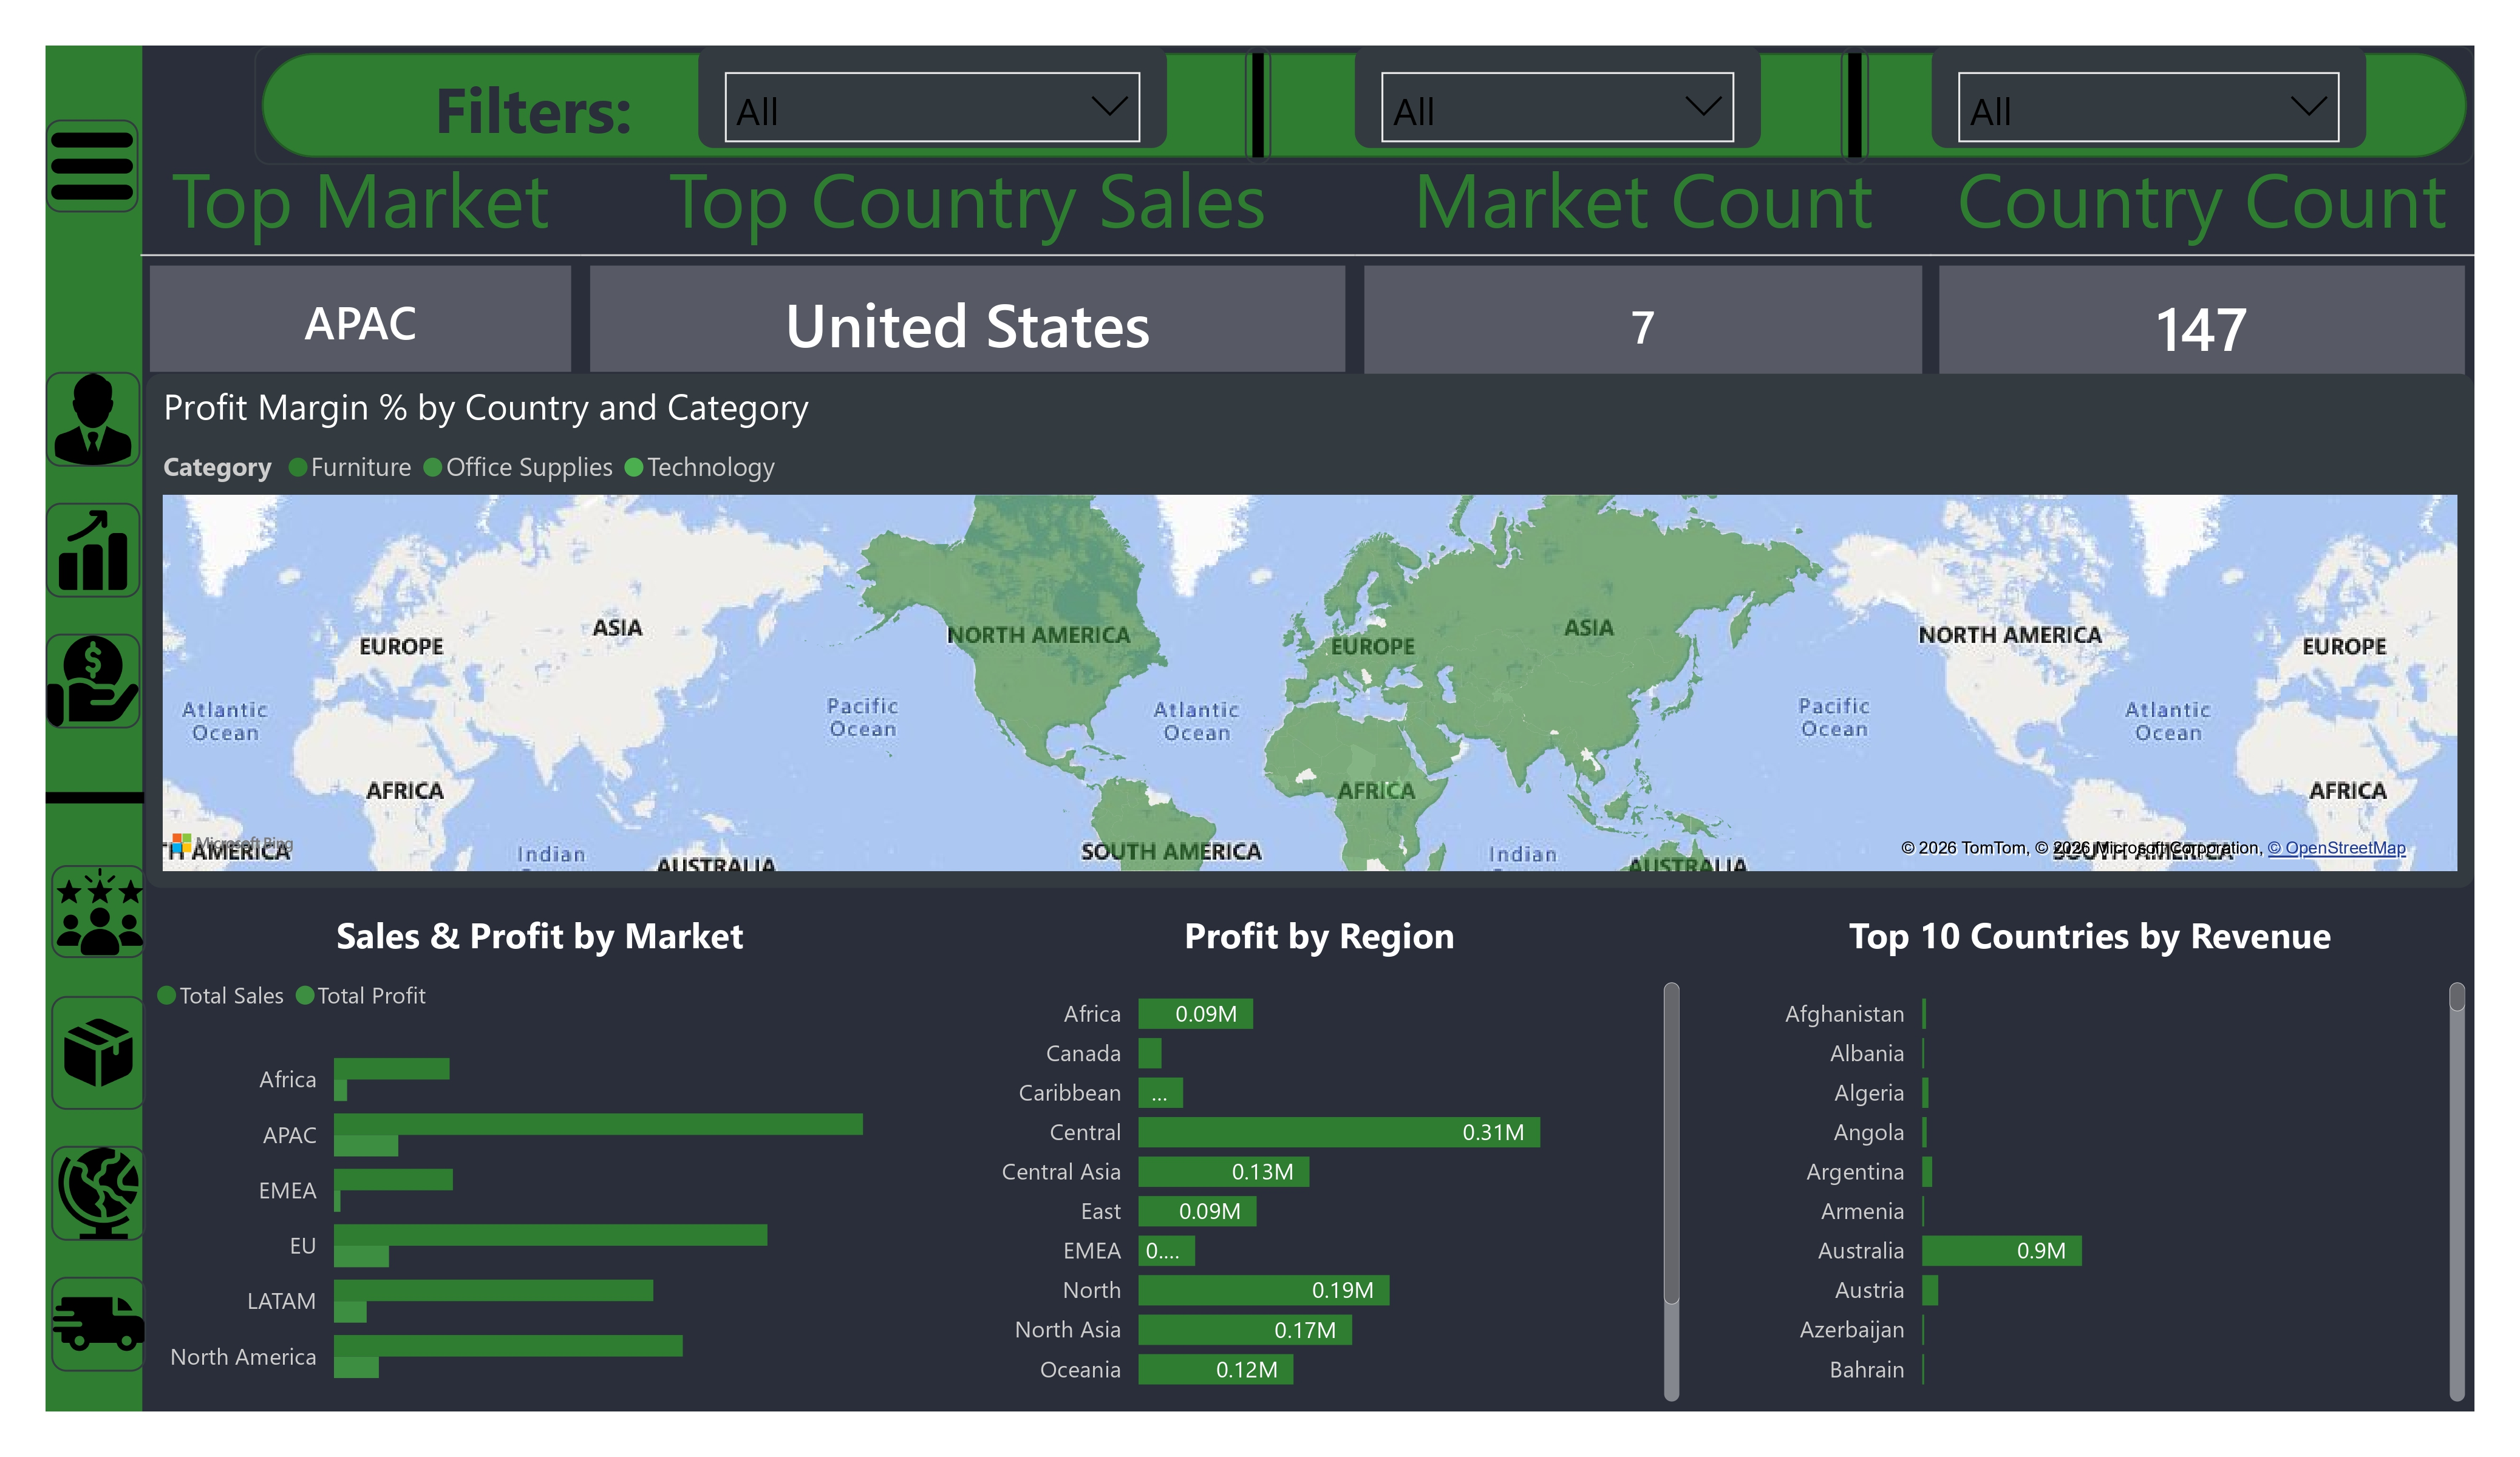

What the dashboard file says about the page in this screenshot:
{"tool":"powerbi","page":{"name":"Geography","canvas":[1280,720],"ordinal":6},"visuals":[{"type":"group","id":"g1","title":"side bar collapsed","box":[0,0,52.7,720.4],"z":0},{"type":"shape","box":[0,0,50.6,720.4],"z":0,"group":"g1"},{"type":"shape","box":[110.3,0,1169.7,62.6],"z":0,"group":"g2"},{"type":"group","id":"g2","title":"title slicer","box":[110.3,0,1169.7,62.6],"z":1000},{"type":"slicer","fields":{"Values":["orders.Country"]},"box":[344.2,0,247.4,53.6],"z":1000,"group":"g2"},{"type":"image","box":[0,241.4,49.8,49.8],"z":1000,"group":"g1"},{"type":"slicer","fields":{"Values":["DateTable.Year"]},"box":[690,0,214.6,53.6],"z":2000,"group":"g2"},{"type":"cardVisual","title":"Top Market","fields":{"Data":["_Measures.Top Market Name"]},"box":[50.4,53.3,231.8,123.8],"z":2000},{"type":"image","box":[0,310.5,49.8,49.8],"z":2000,"group":"g1"},{"type":"slicer","fields":{"Values":["orders.Market2"]},"box":[993.9,0,229.5,53.6],"z":3000,"group":"g2"},{"type":"cardVisual","title":"Top Country Sales","fields":{"Data":["_Measures.Top Country by Sales"]},"box":[282.2,53.3,407.5,123.8],"z":3000},{"type":"image","box":[3,431.6,49.8,49.8],"z":3000,"group":"g1"},{"type":"shape","box":[186.3,3,141.6,56.6],"z":4000,"group":"g2"},{"type":"cardVisual","title":"Market Count","fields":{"Data":["_Measures.Market Count"]},"box":[689.8,53.3,303.8,128.2],"z":4000},{"type":"image","box":[3,500.6,49.8,60],"z":4000,"group":"g1"},{"type":"shape","box":[631.8,0,14.9,62.6],"z":5000,"group":"g2"},{"type":"cardVisual","title":"Country Count","fields":{"Data":["_Measures.Country Count"]},"box":[993.4,53.3,286.6,128.2],"z":5000},{"type":"image","box":[3,579.9,49.8,49.8],"z":5000,"group":"g1"},{"type":"shape","box":[946.2,0,14.9,62.6],"z":6000,"group":"g2"},{"type":"image","box":[0,38.7,49.1,49.1],"z":6000,"group":"g1"},{"type":"clusteredBarChart","title":"Sales & Profit by Market","fields":{"Category":["orders.Market2"],"Y":["_Measures.Total Sales","_Measures.Total Profit"]},"box":[53.3,456.5,414.7,263.5],"z":6000},{"type":"image","box":[0,172.4,49.8,49.8],"z":7000,"group":"g1"},{"type":"barChart","title":"Profit by Region","fields":{"Category":["orders.Region"],"Y":["_Measures.Total Profit"]},"box":[477.4,456.5,388.8,263.5],"z":7000},{"type":"shape","box":[0,385.5,52.1,22.3],"z":8000,"group":"g1"},{"type":"barChart","title":"Top 10 Countries by Revenue","fields":{"Category":["orders.Country"],"Y":["Sum(orders.Sales)"]},"box":[875.4,456.5,404.6,263.5],"z":8000},{"type":"filledMap","fields":{"Category":["orders.Country"],"Series":["orders.Category"]},"box":[53.3,172.8,1226.9,270.7],"z":9000},{"type":"image","box":[3,648.9,49.8,49.8],"z":9000,"group":"g1"}]}

Visuals, with their boxes on the page's 1280x720 design canvas (x1, y1, x2, y2). These are canvas units, not pixel positions in the 2520x1457 screenshot, which may show the page scaled, cropped or inside an application window:
"side bar collapsed" group: (x1=0, y1=0, x2=53, y2=720)
shape: (x1=0, y1=0, x2=51, y2=720)
shape: (x1=110, y1=0, x2=1280, y2=63)
"title slicer" group: (x1=110, y1=0, x2=1280, y2=63)
slicer - orders.Country: (x1=344, y1=0, x2=592, y2=54)
image: (x1=0, y1=241, x2=50, y2=291)
slicer - DateTable.Year: (x1=690, y1=0, x2=905, y2=54)
"Top Market" cardVisual: (x1=50, y1=53, x2=282, y2=177)
image: (x1=0, y1=310, x2=50, y2=360)
slicer - orders.Market2: (x1=994, y1=0, x2=1223, y2=54)
"Top Country Sales" cardVisual: (x1=282, y1=53, x2=690, y2=177)
image: (x1=3, y1=432, x2=53, y2=481)
shape: (x1=186, y1=3, x2=328, y2=60)
"Market Count" cardVisual: (x1=690, y1=53, x2=994, y2=182)
image: (x1=3, y1=501, x2=53, y2=561)
shape: (x1=632, y1=0, x2=647, y2=63)
"Country Count" cardVisual: (x1=993, y1=53, x2=1280, y2=182)
image: (x1=3, y1=580, x2=53, y2=630)
shape: (x1=946, y1=0, x2=961, y2=63)
image: (x1=0, y1=39, x2=49, y2=88)
"Sales & Profit by Market" clusteredBarChart: (x1=53, y1=456, x2=468, y2=720)
image: (x1=0, y1=172, x2=50, y2=222)
"Profit by Region" barChart: (x1=477, y1=456, x2=866, y2=720)
shape: (x1=0, y1=386, x2=52, y2=408)
"Top 10 Countries by Revenue" barChart: (x1=875, y1=456, x2=1280, y2=720)
filledMap - orders.Country x orders.Category: (x1=53, y1=173, x2=1280, y2=444)
image: (x1=3, y1=649, x2=53, y2=699)
